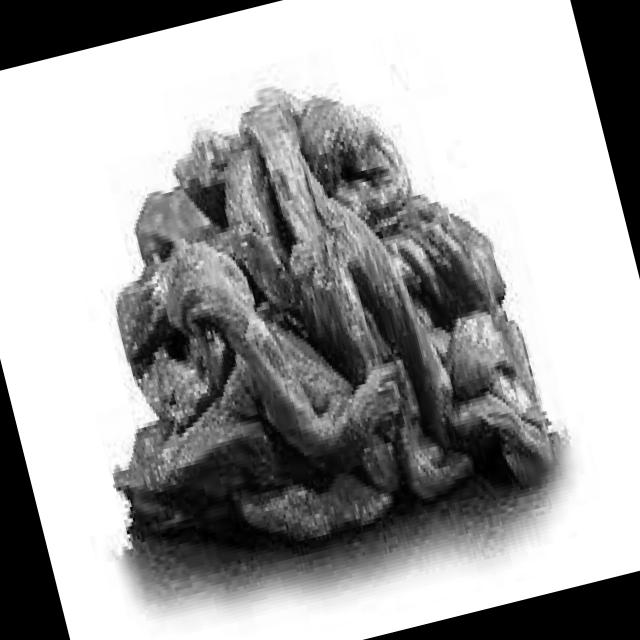thit mieng: (34, 46, 556, 576)
